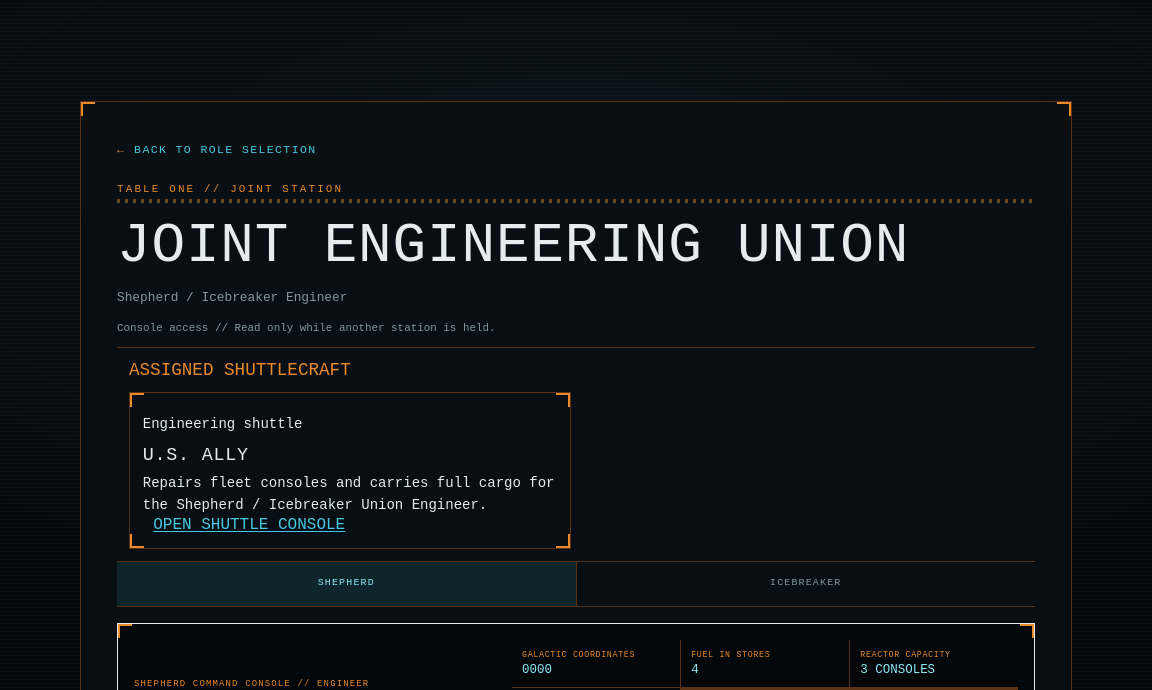
Test case: gives the alternate Union engineer only Shepherd, Icebreaker, and Ally
The image size is (1152, 690).
What coordinates should you click on to do the following:
click the button "Icebreaker"
I would click on:
 (806, 584)
Its box is [576,562,1035,606].
(page scrolled)
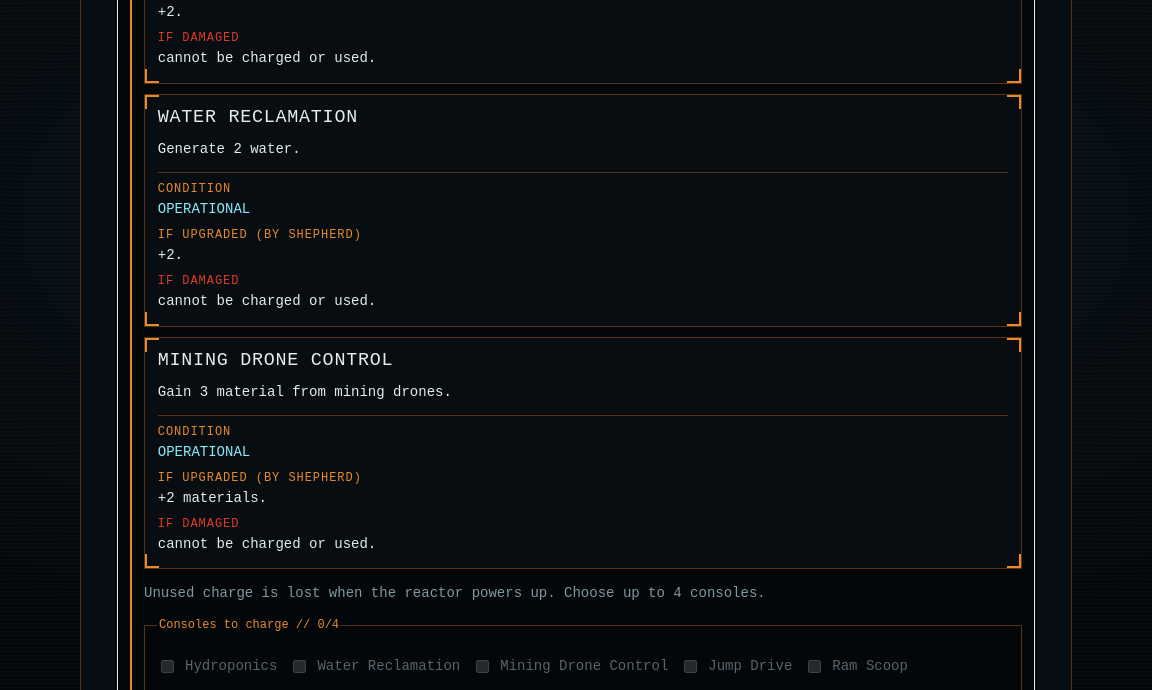
Result: the heading "Mining Drone Control" is shown at [158,350,393,371]
